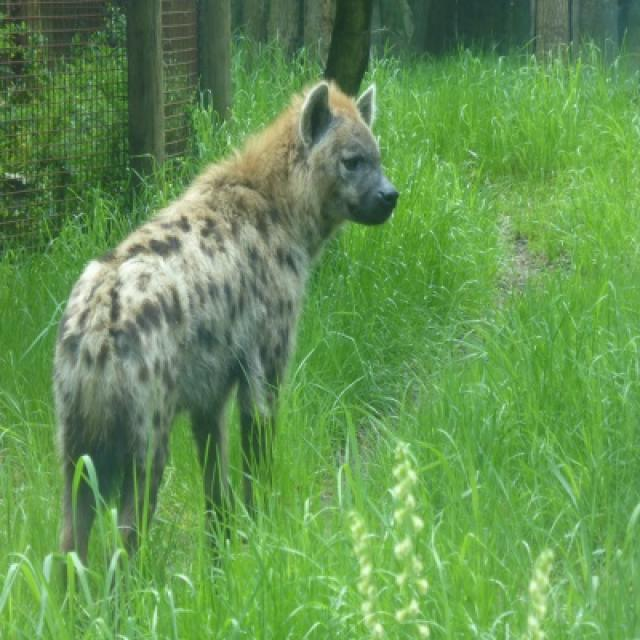hyena: (53, 80, 397, 560)
